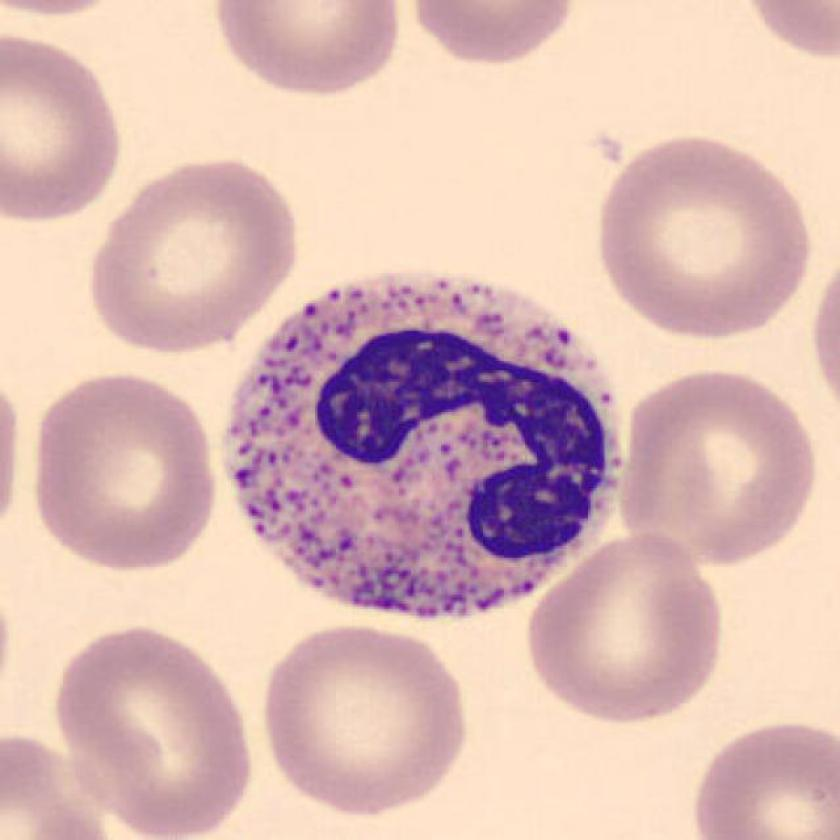neutrophil: (227, 275, 623, 619)
